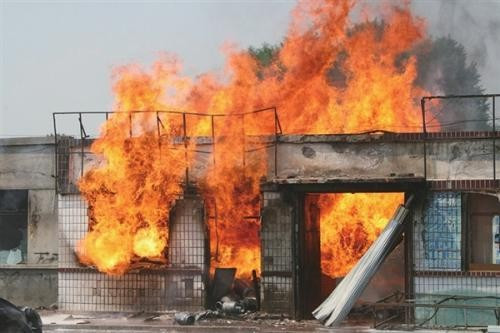fire: (76, 2, 450, 282)
